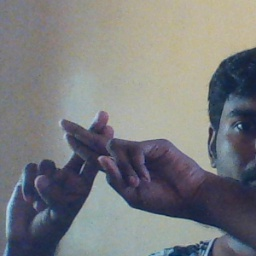F: (35, 104, 152, 206)
